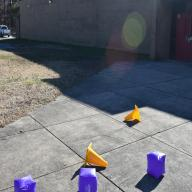cone: (84, 142, 107, 168), (124, 104, 140, 122)
cube: (146, 150, 166, 180), (78, 168, 98, 192), (14, 174, 36, 192)
